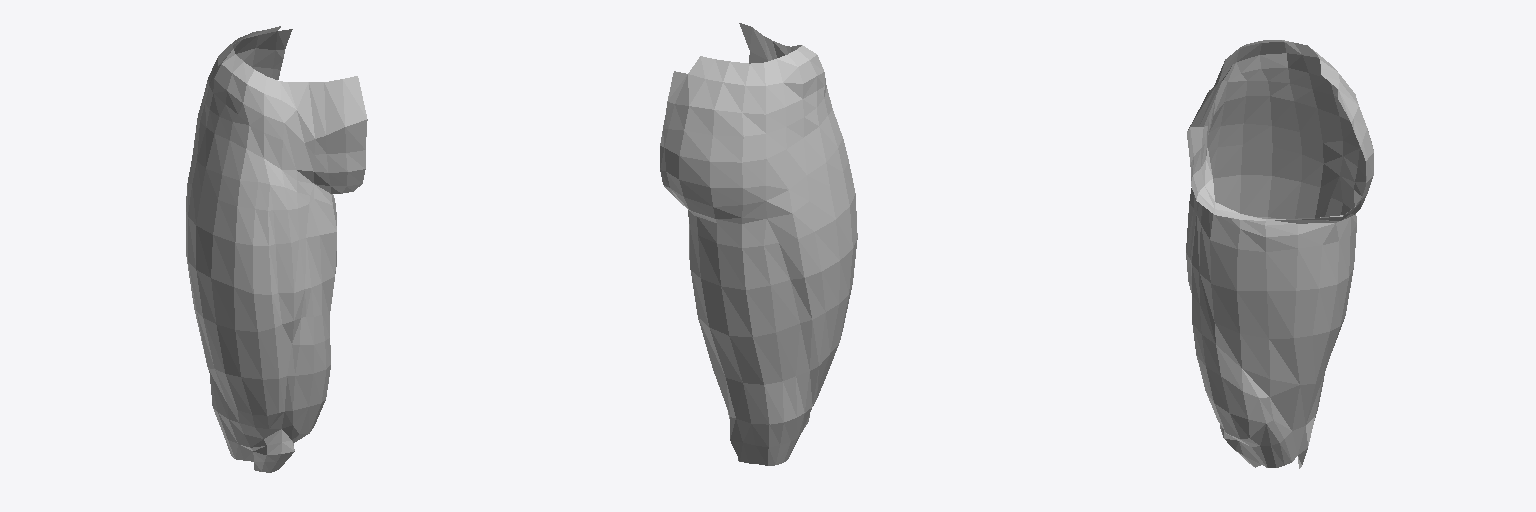
The model's file is TopLegRight.obj.
3 renders of one model, left to right at view 1: azimuth 30°, elevation 25°; view 2: azimuth 150°, elevation 25°; view 3: azimuth 270°, elevation 25°, orthographic.
Bounding box in the file's own units: 7.8 × 23.38 × 9.65.